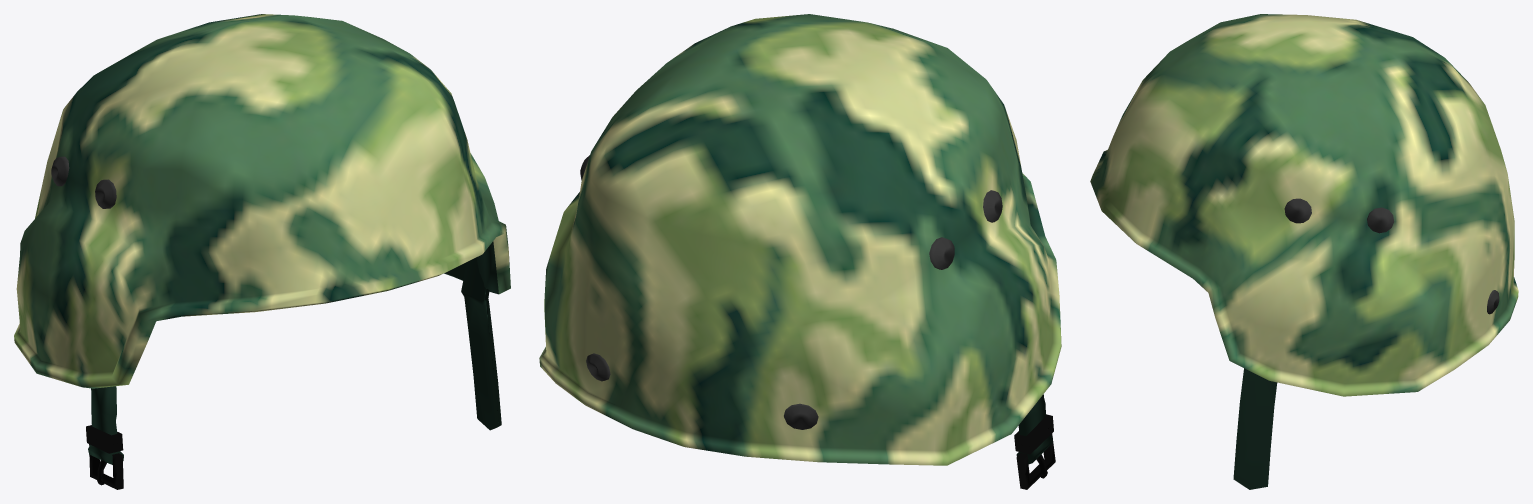
Rendered from hatlv.fbx.
3 views of the same model, side by side, from view 1: azimuth 30°, elevation 25°; view 2: azimuth 150°, elevation 25°; view 3: azimuth 270°, elevation 25° (orthographic). The views are drawn at different scales.
Parts seen in each view (by area): view 1: polySurface56; view 2: polySurface56; view 3: polySurface56.
Boxes of the visible parts, box(x1,y1,x2,y2) form: polySurface56: box(14, 14, 510, 489); polySurface56: box(539, 14, 1061, 489); polySurface56: box(1090, 14, 1518, 489).
Bounding box in the file's own units: 59.4 × 54.92 × 58.07.
